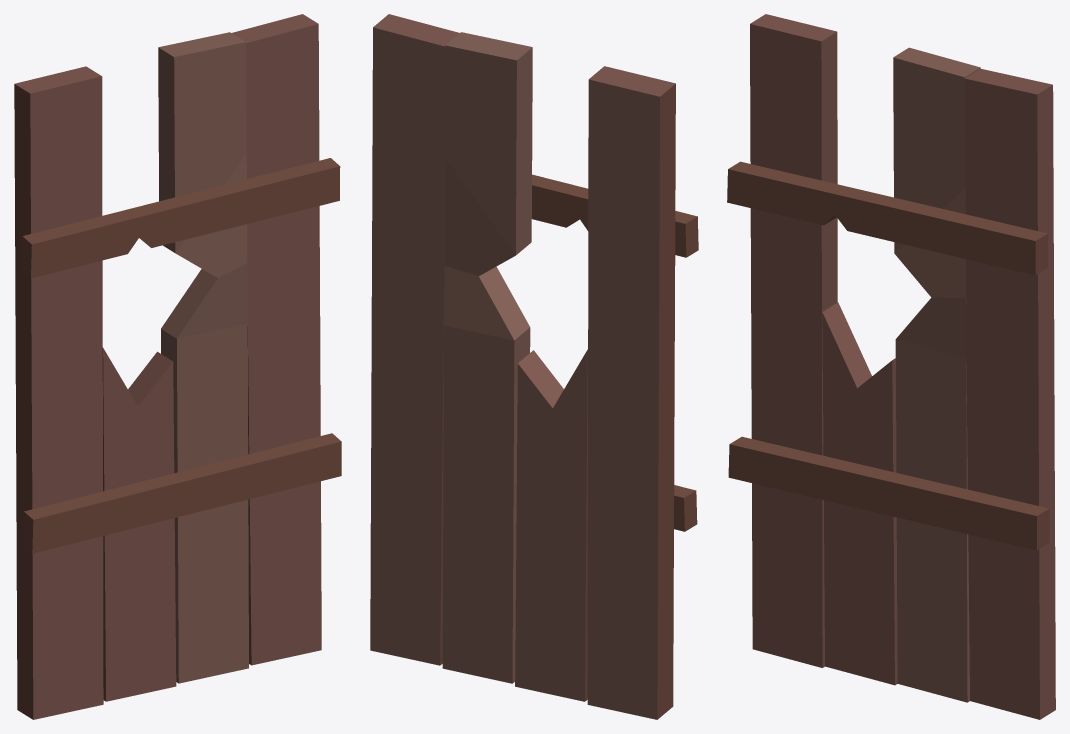
Rendered from Porta.glb.
3 views of the same model, side by side, from view 1: azimuth 30°, elevation 25°; view 2: azimuth 150°, elevation 25°; view 3: azimuth 330°, elevation 25° (orthographic).
Parts seen in each view (by area): view 1: porta; view 2: porta; view 3: porta.
Boxes of the visible parts, x1,y1,x2,y2 form: porta: (14,14,341,719); porta: (370,14,698,719); porta: (727,14,1055,719).
Size of the model in its own units: 1.56 by 3.02 by 0.2401.
